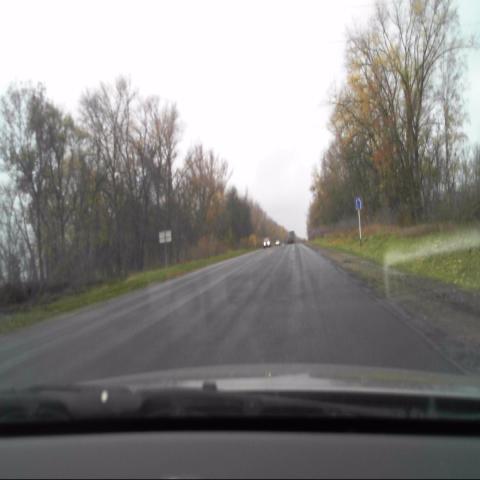5_15_5: (354, 198, 362, 210)
